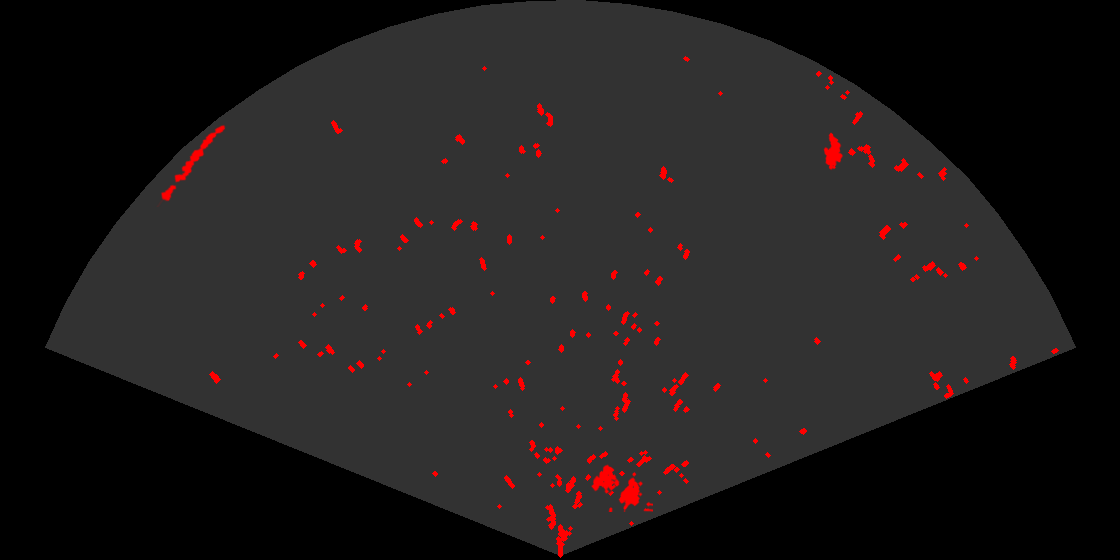AUV: (822, 131, 845, 172)
cage: (589, 463, 653, 512)
chain: (155, 123, 227, 207)
